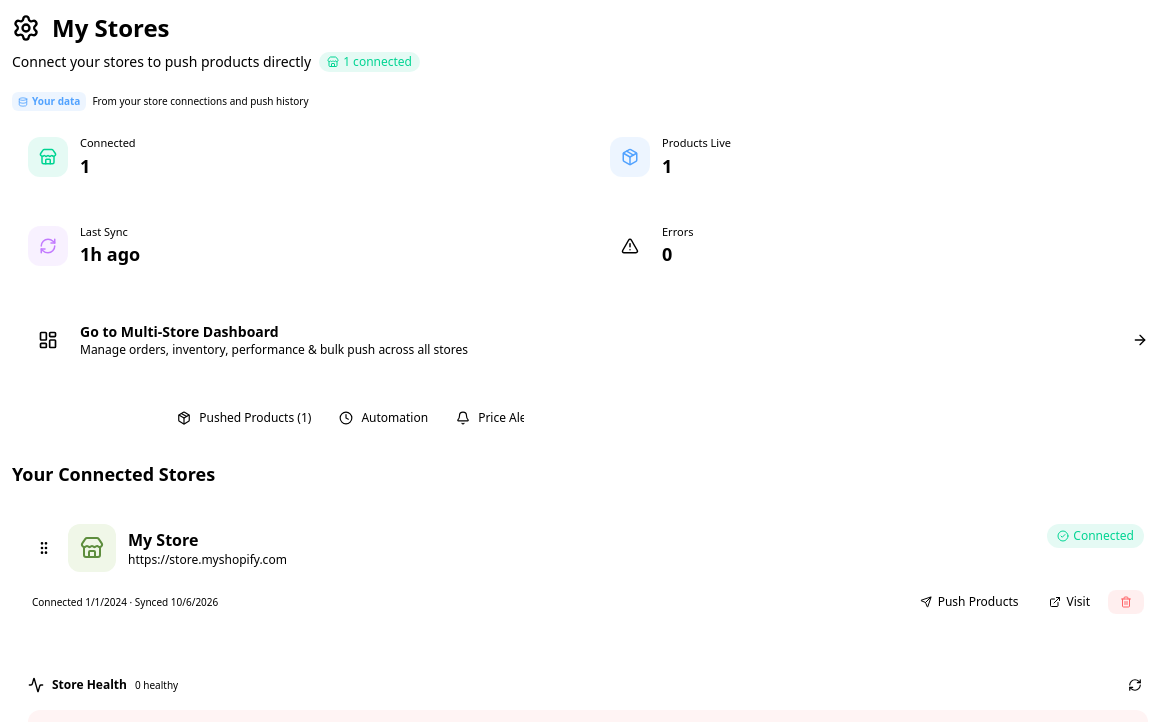
Test: StorePage › switches back to stores tab on click
Click the button "Pushed Products (1)". click: [244, 418]
box: top-left (165, 400), bottom-right (323, 436)
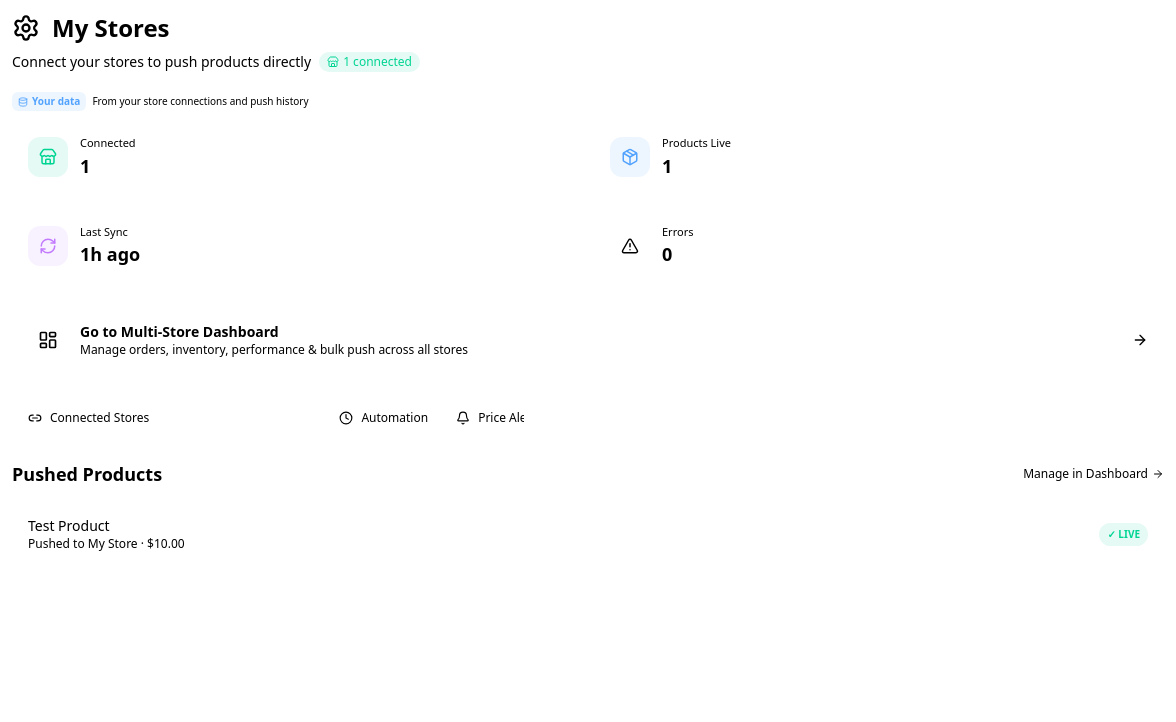
Click the button "Connected Stores". click: [89, 418]
box: top-left (16, 400), bottom-right (161, 436)
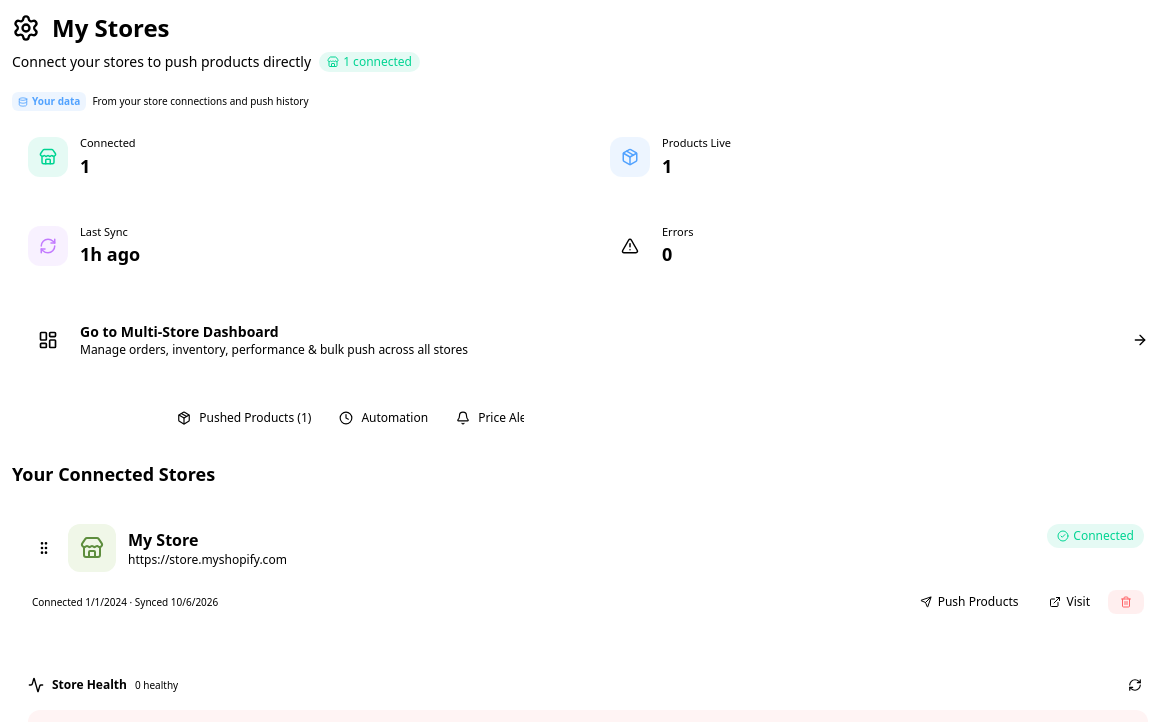
Now the heading "Your Connected Stores" is shown, box top-left (12, 462), bottom-right (215, 486)
